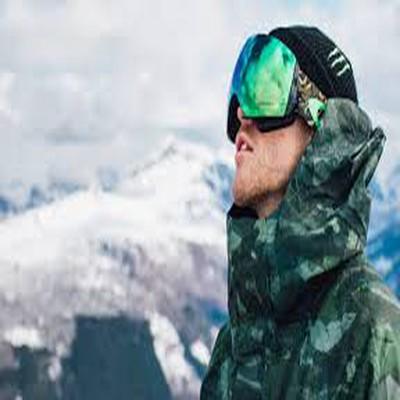eywear: (210, 34, 325, 147)
